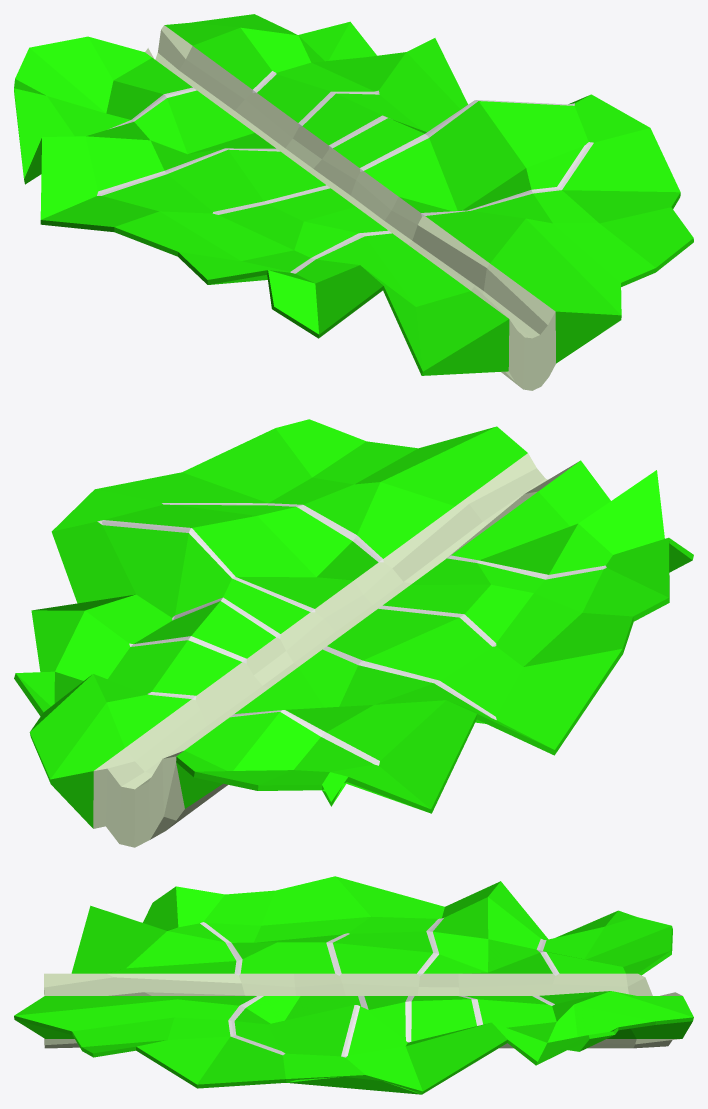
The model's file is Letuce.fbx.
3 views of the same model, one above another, from view 1: azimuth 30°, elevation 25°; view 2: azimuth 150°, elevation 25°; view 3: azimuth 270°, elevation 25° (orthographic). The views are drawn at different scales.
Visible parts, largest first — view 1: Plane.001; view 2: Plane.001; view 3: Plane.001.
Part boxes in pixels (<box>): Plane.001: <box>14,14,693,390</box>; Plane.001: <box>14,419,693,847</box>; Plane.001: <box>14,876,693,1094</box>.
Size of the model in its own units: 69.81 by 15.29 by 98.49.
